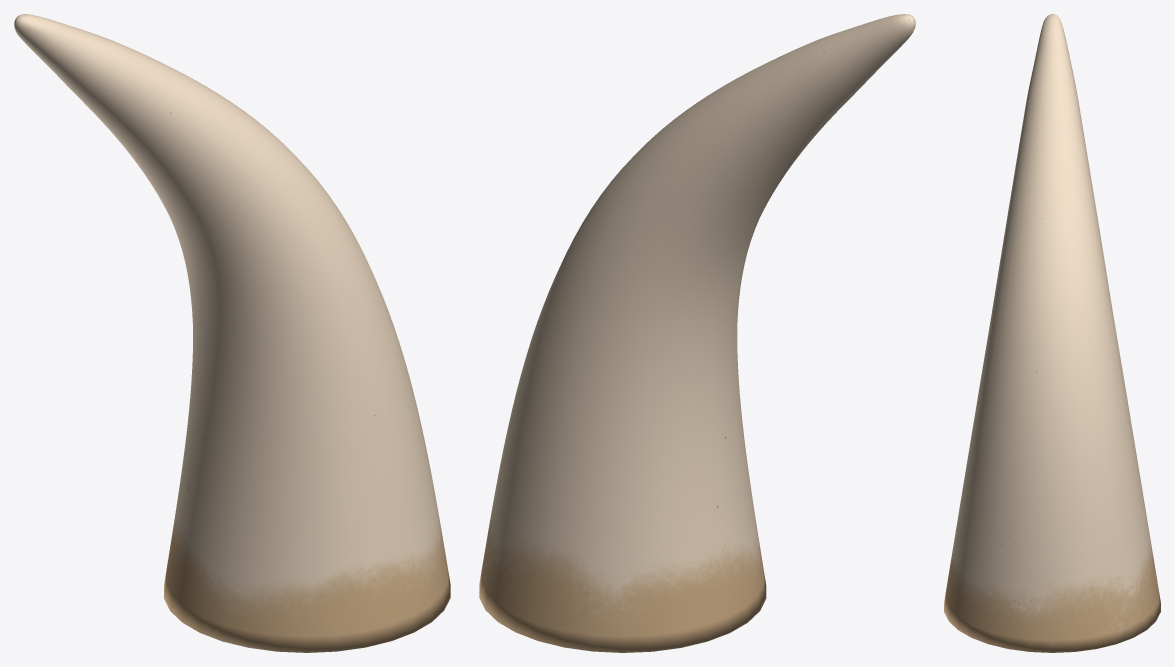
Rendered from unwrapped_tooth2.fbx.
3 renders of one model, left to right at view 1: azimuth 30°, elevation 25°; view 2: azimuth 150°, elevation 25°; view 3: azimuth 270°, elevation 25°, orthographic. The views are drawn at different scales.
Parts seen in each view (by area): view 1: Tooth2; view 2: Tooth2; view 3: Tooth2.
Part boxes in pixels (x1,y1,x2,y2): Tooth2: (14, 14, 450, 652); Tooth2: (479, 14, 915, 652); Tooth2: (944, 14, 1160, 652).
Bounding box in the file's own units: 1543 × 2285 × 920.
